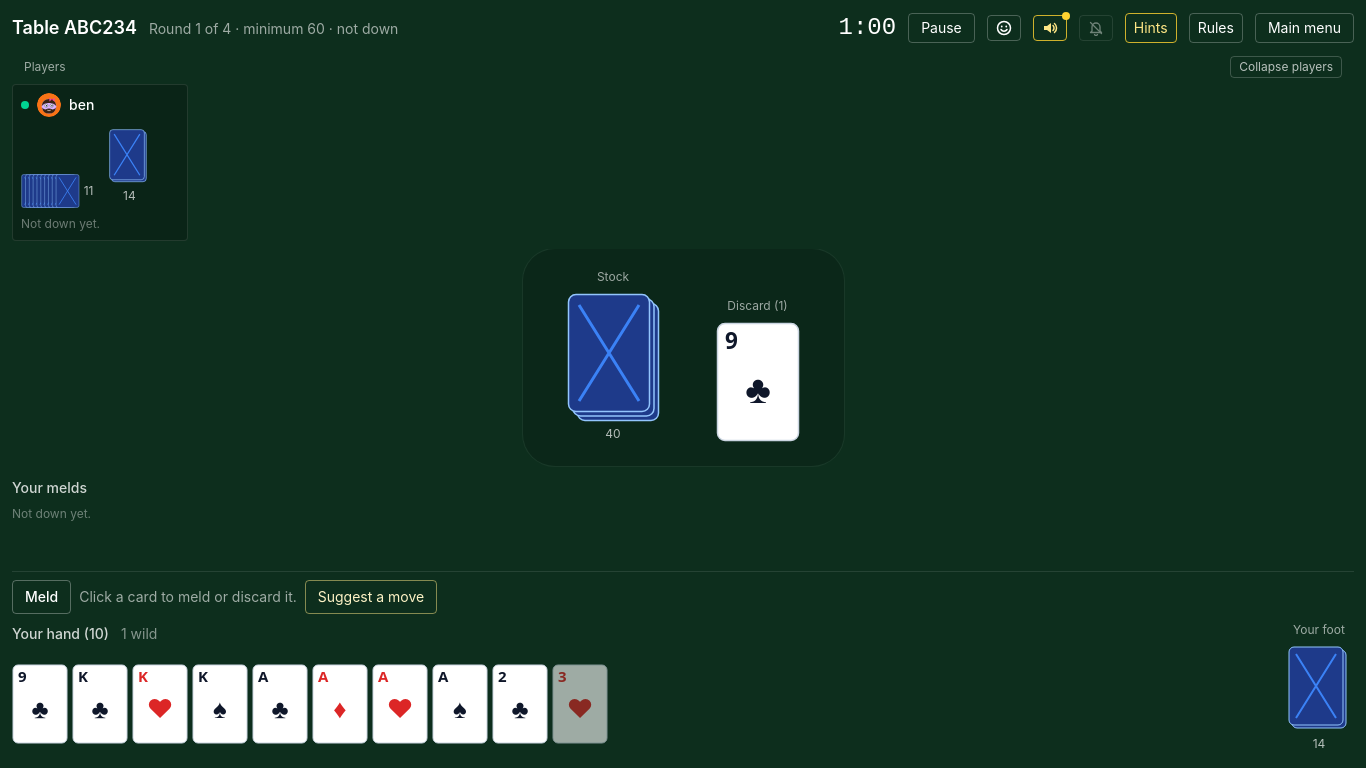
Scenario: staging a lay-down › will not commit a lay-down below the minimum, and says why
Click the button named "King of clubs": (100, 704) [72,664,128,744]
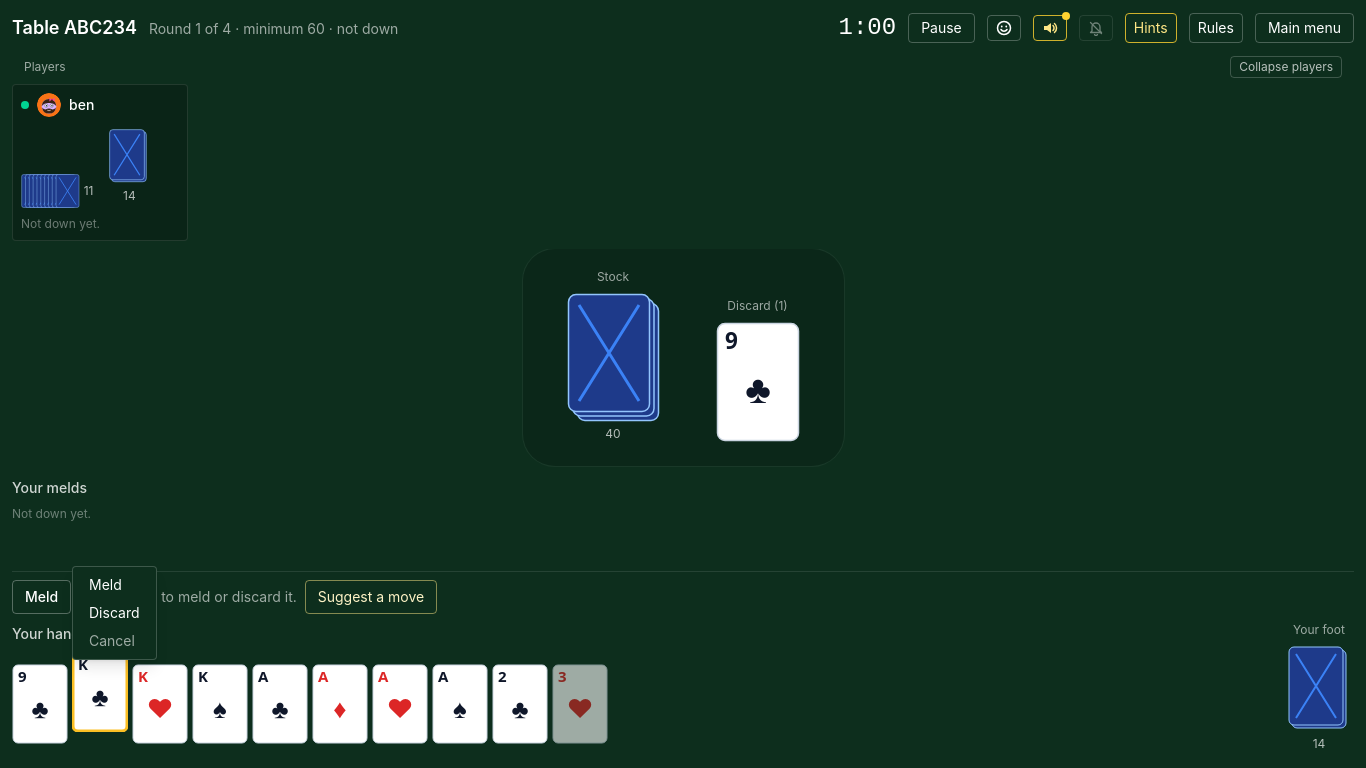
Click the menu item "Meld": (114, 585) [77,571,152,599]
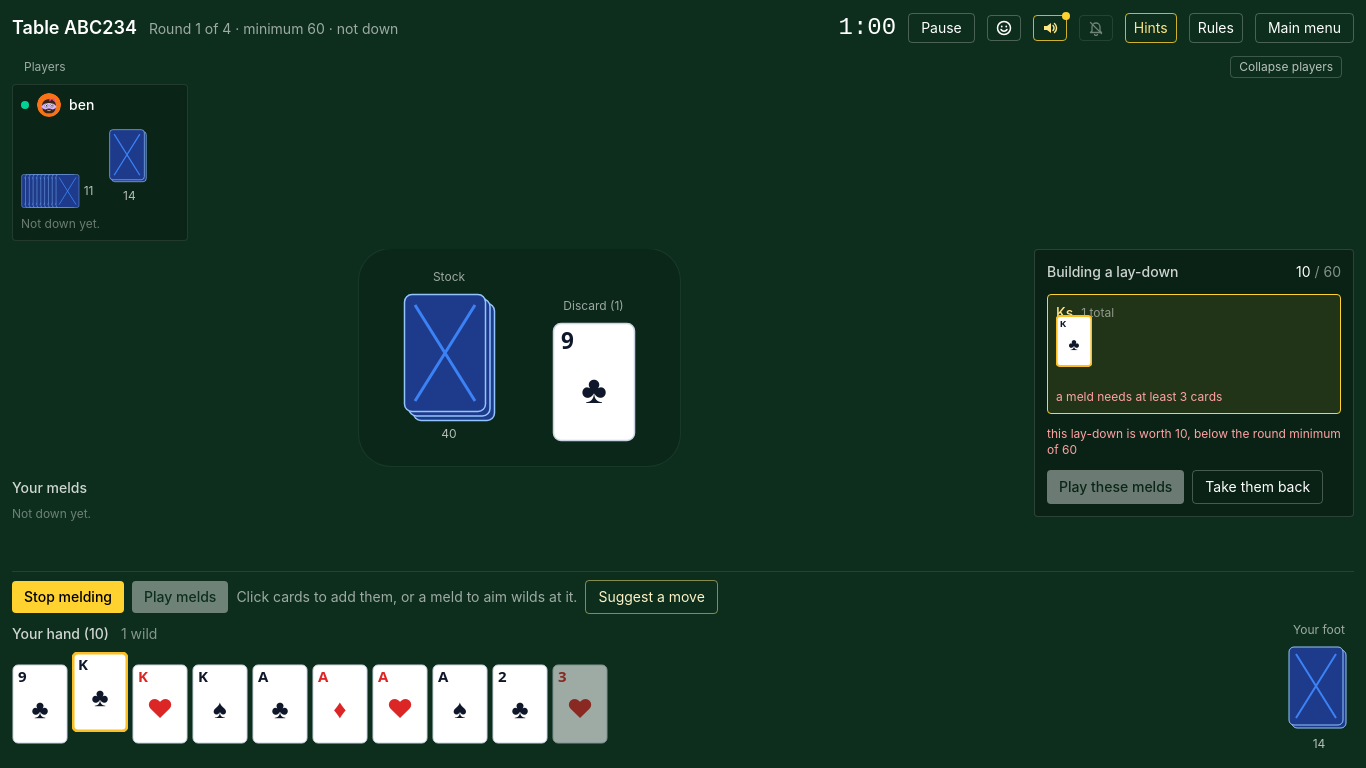
Click the button named "King of hearts": (160, 704) [132,664,188,744]
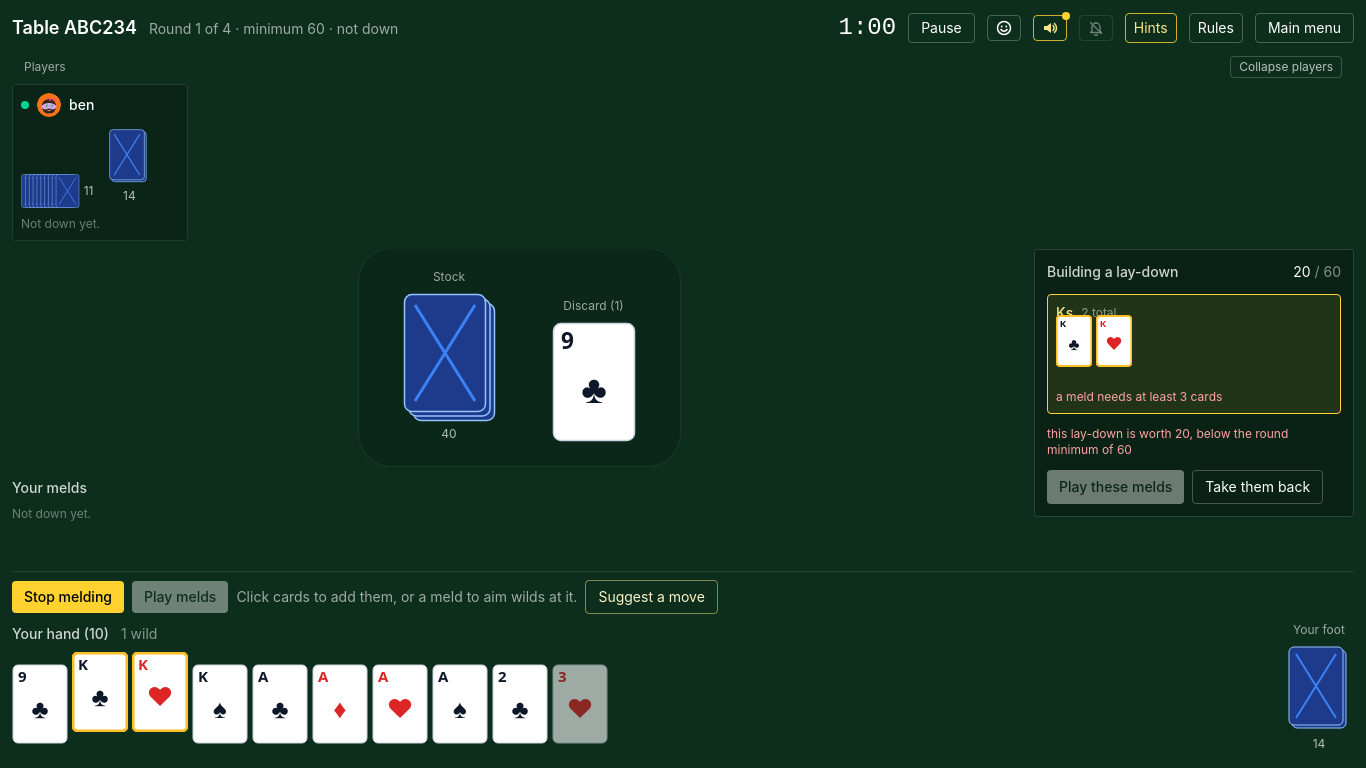
Click the button named "King of spades": (220, 704) [192,664,248,744]
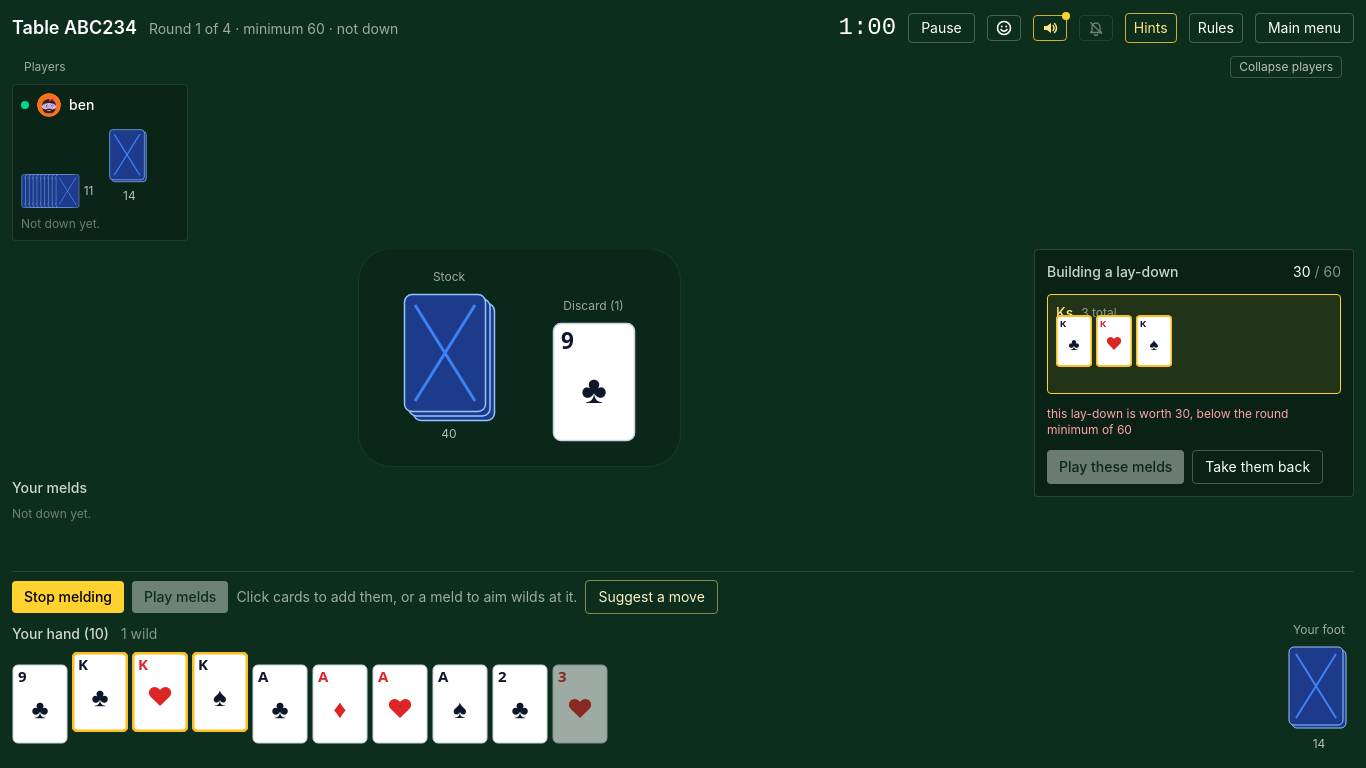
Expected: the button "Play these melds" is disabled, [1047,450,1184,484]
Expected: the text "this lay-down is worth 30, below the round minimum of 60" is shown, [1047,406,1288,437]
